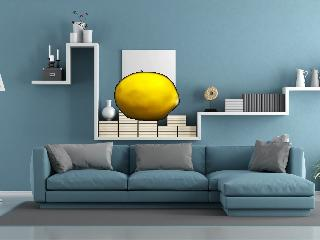lemon: (115, 72, 179, 120)
